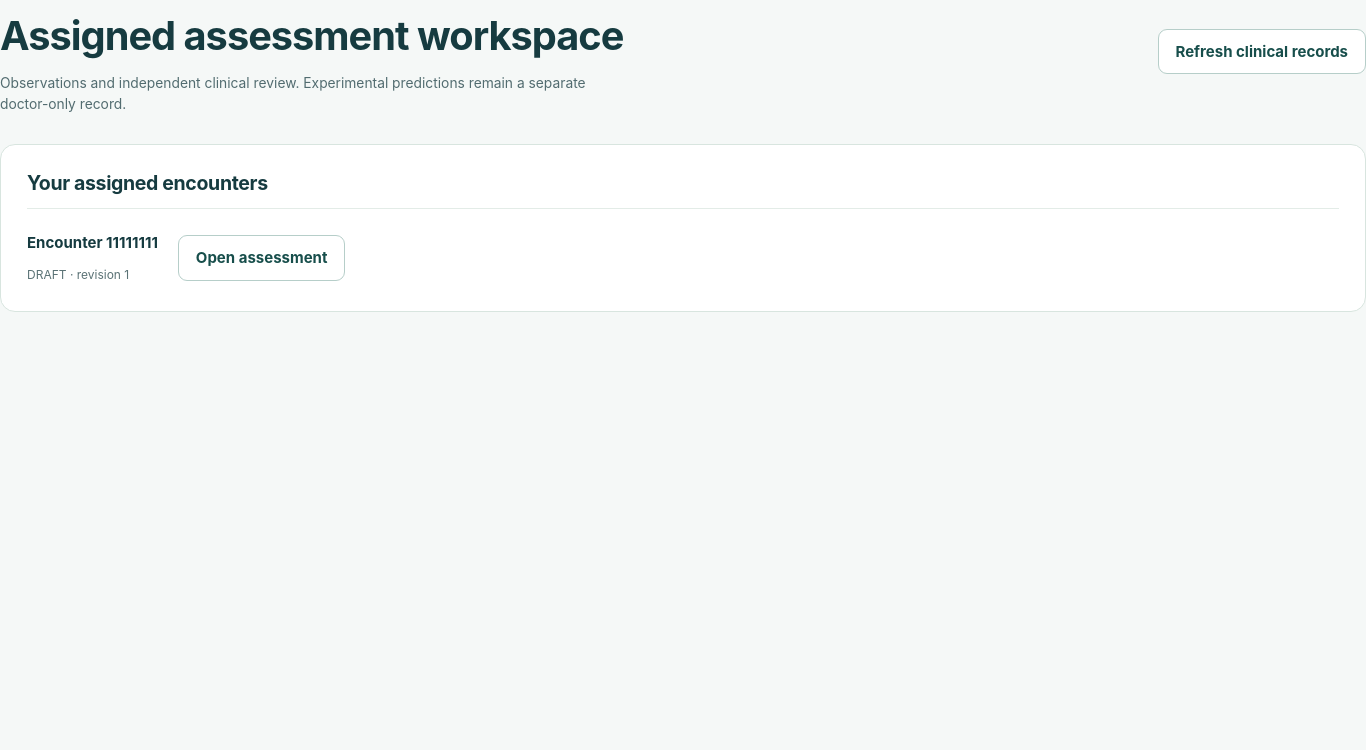
Test case: failed clinical command retry preserves key and expected revision
Later steps or results of the test are not shown.
Click the button "Open assessment": point(262, 258) [178,235,345,281]
(page scrolled)
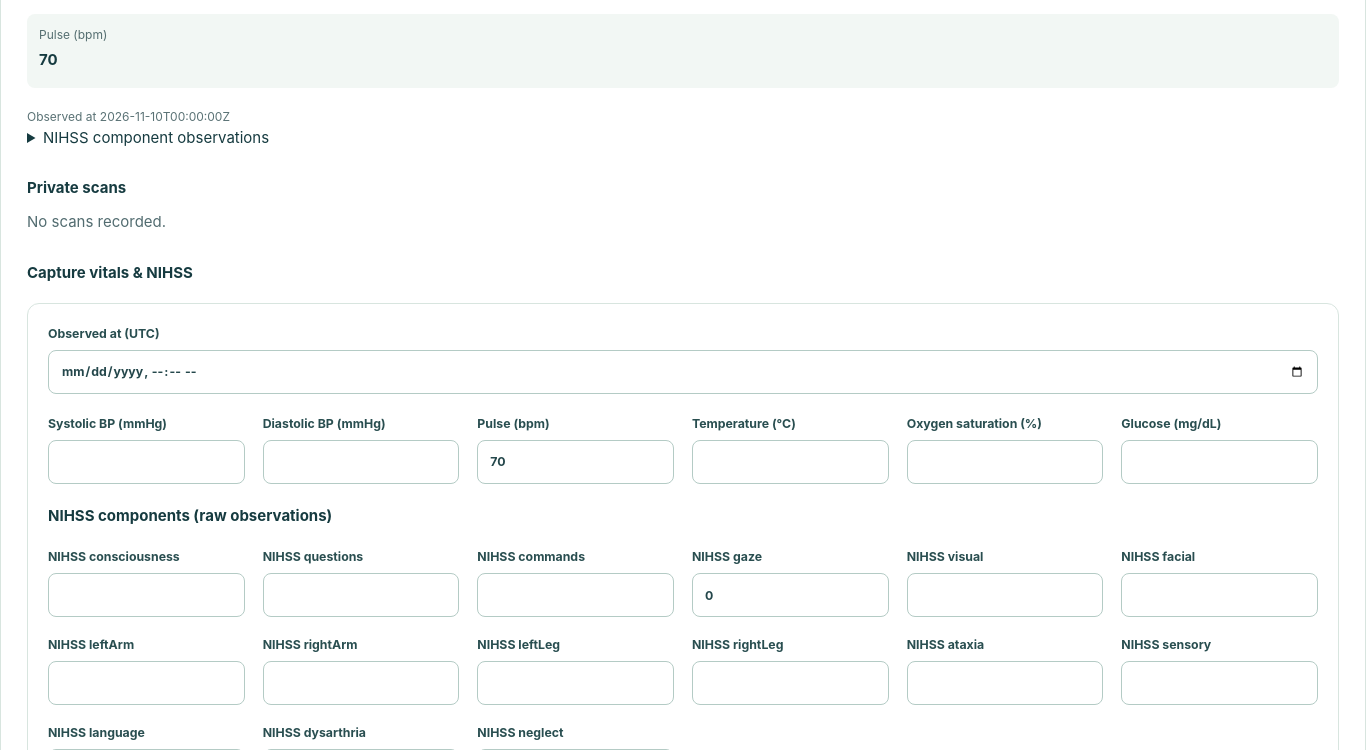
Now the number field labelled "NIHSS gaze" is shown, box [692,573,889,617]
